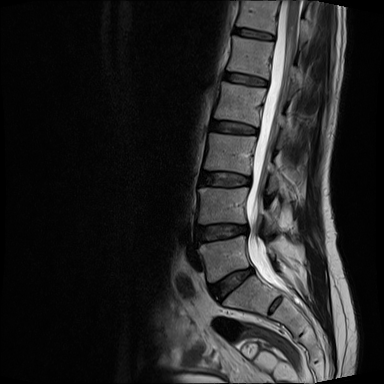Lumbar Disc Bulge (LDB): (194, 220, 253, 248)
Normal IVD: (205, 262, 258, 310), (196, 166, 255, 191), (205, 116, 263, 139), (221, 67, 272, 91), (229, 25, 278, 44)
Spinal Stenosis (SS): (237, 218, 254, 240)
